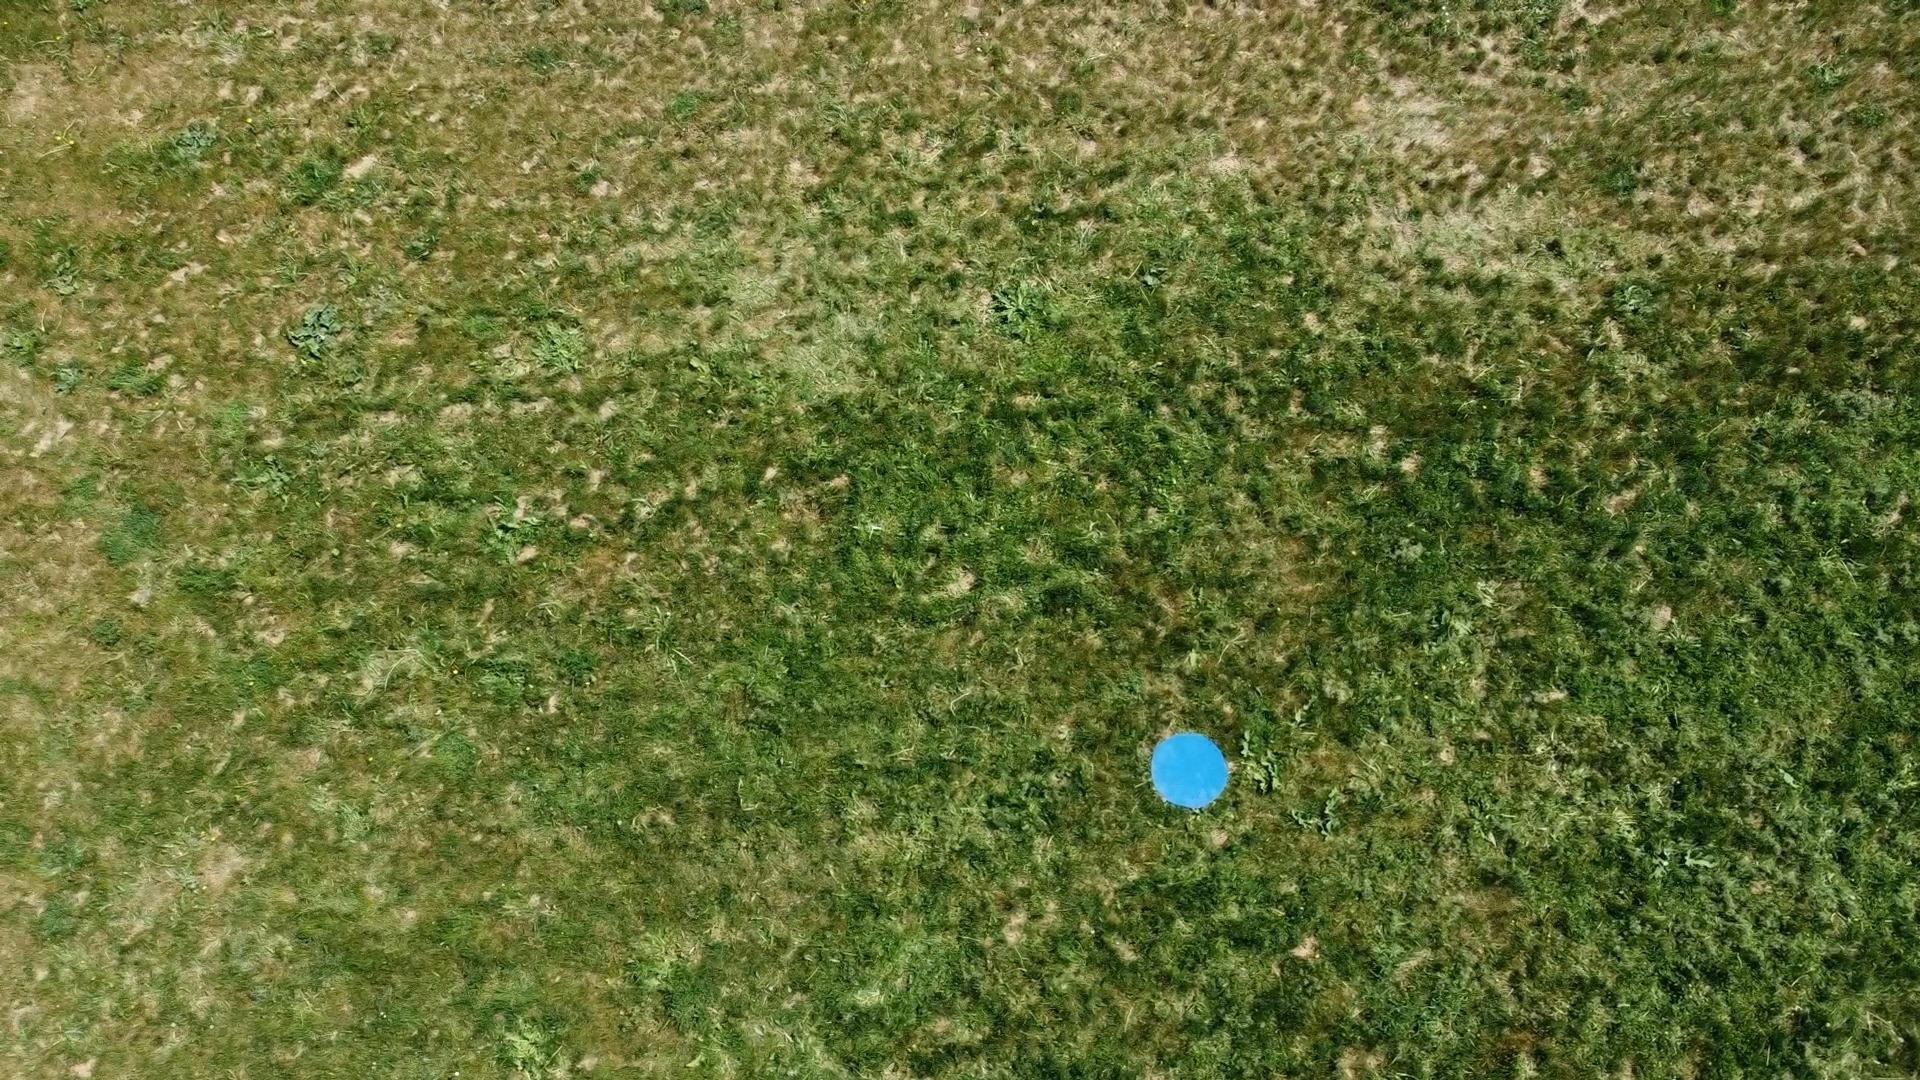Blue: (1146, 729, 1234, 811)
